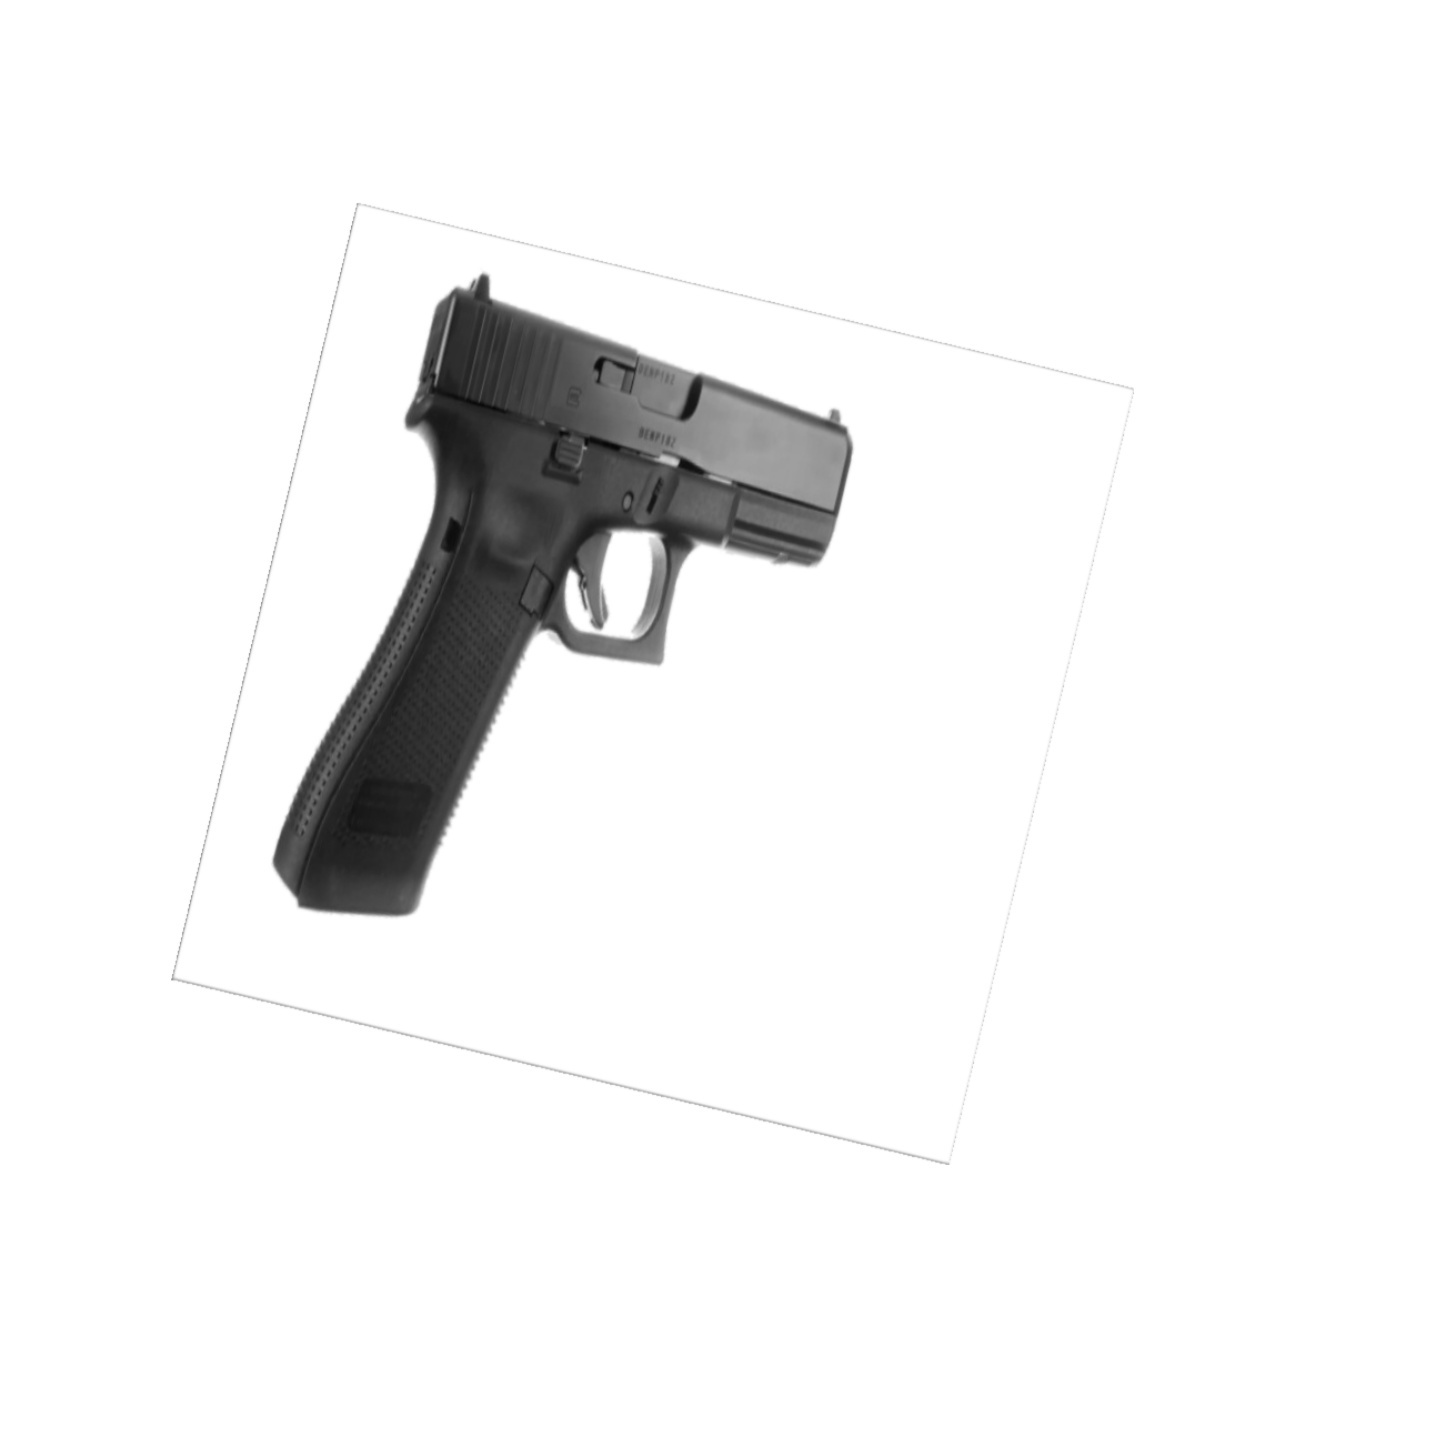gun: (267, 271, 859, 920)
